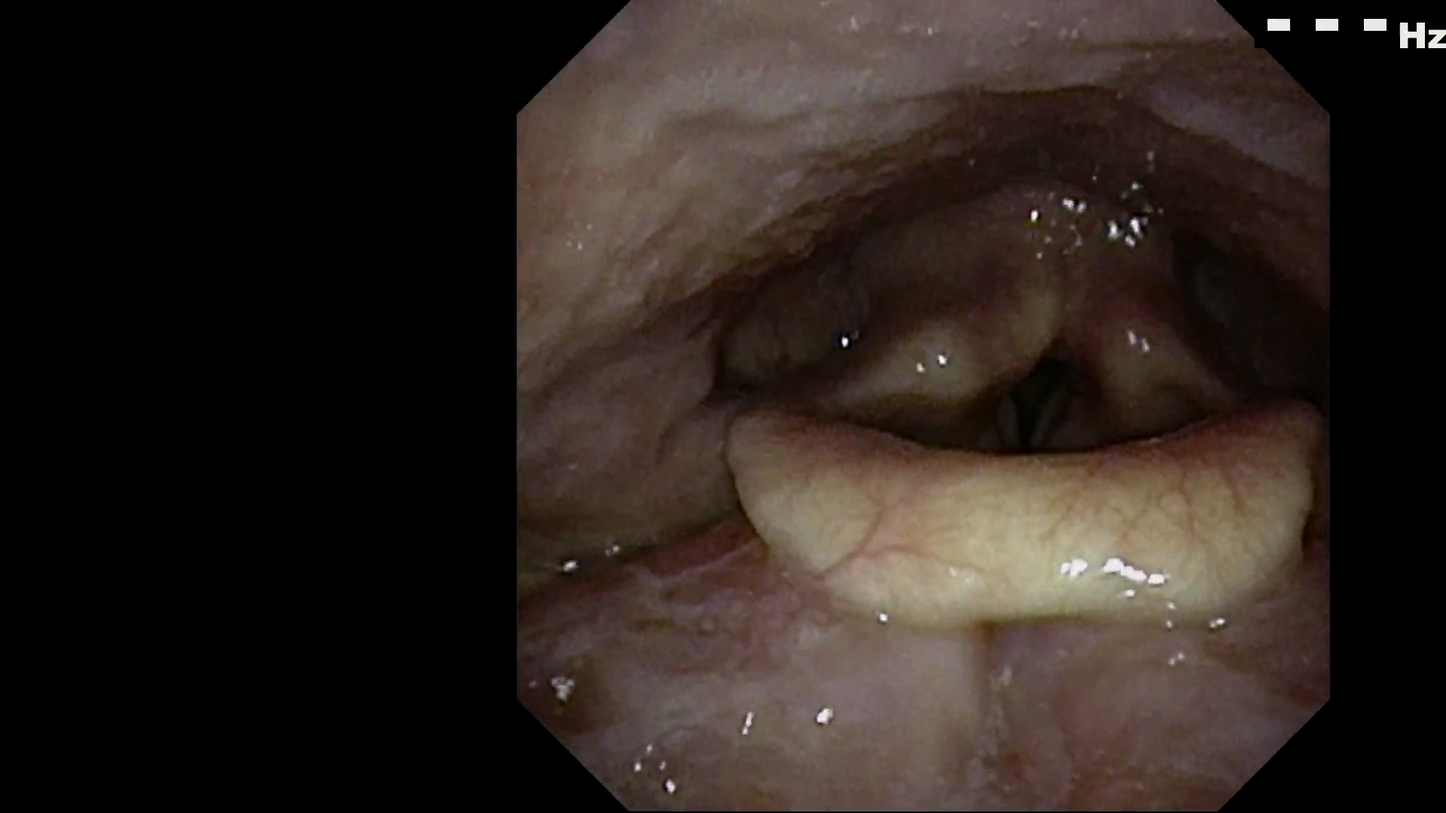epiglottis: (703, 376, 1324, 636)
trachea: (977, 327, 1108, 479)
